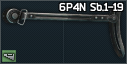AKMSN shoulder piece 6P4 Sb.1-19: (0, 0, 127, 64)
